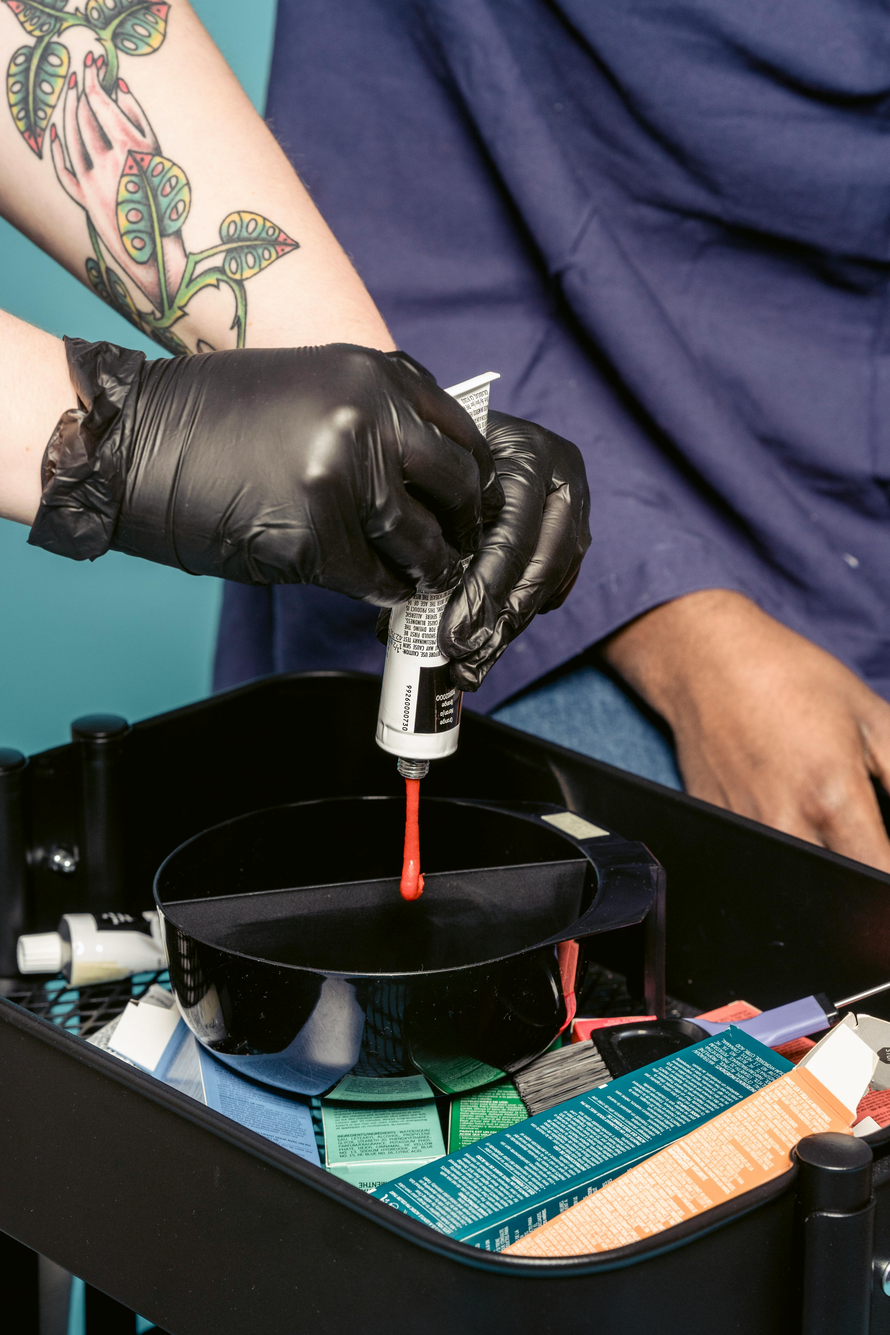No-gloves: (600, 529, 870, 901)
gloves: (56, 314, 480, 606), (407, 378, 621, 701)
